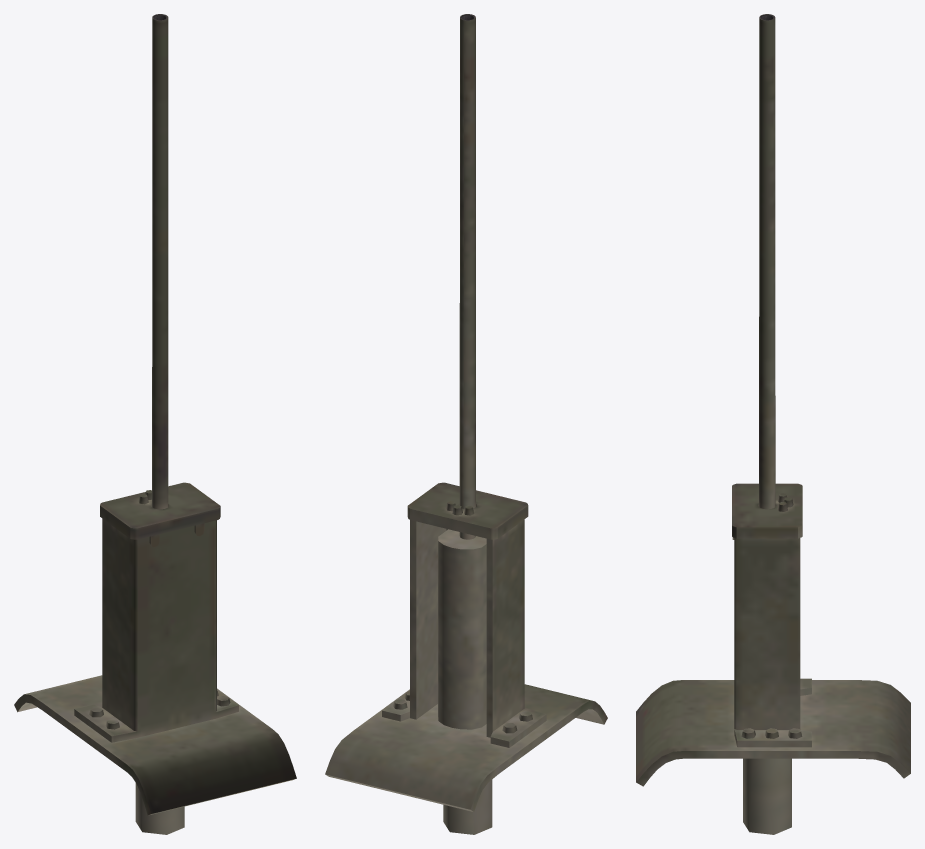
The model's file is Gun_01.glb.
The picture shows the model from 3 angles, left to right: view 1: azimuth 30°, elevation 25°; view 2: azimuth 150°, elevation 25°; view 3: azimuth 270°, elevation 25°; orthographic projection.
Parts seen in each view (by area): view 1: set_0_group_0; view 2: set_0_group_0; view 3: set_0_group_0.
Boxes of the visible parts, bbox=[...] form: set_0_group_0: bbox=[14, 14, 296, 834]; set_0_group_0: bbox=[325, 14, 607, 834]; set_0_group_0: bbox=[636, 14, 910, 834].
Size of the model in its own units: 0.2692 by 1.43 by 0.4399.
1 material, 1 textured.
